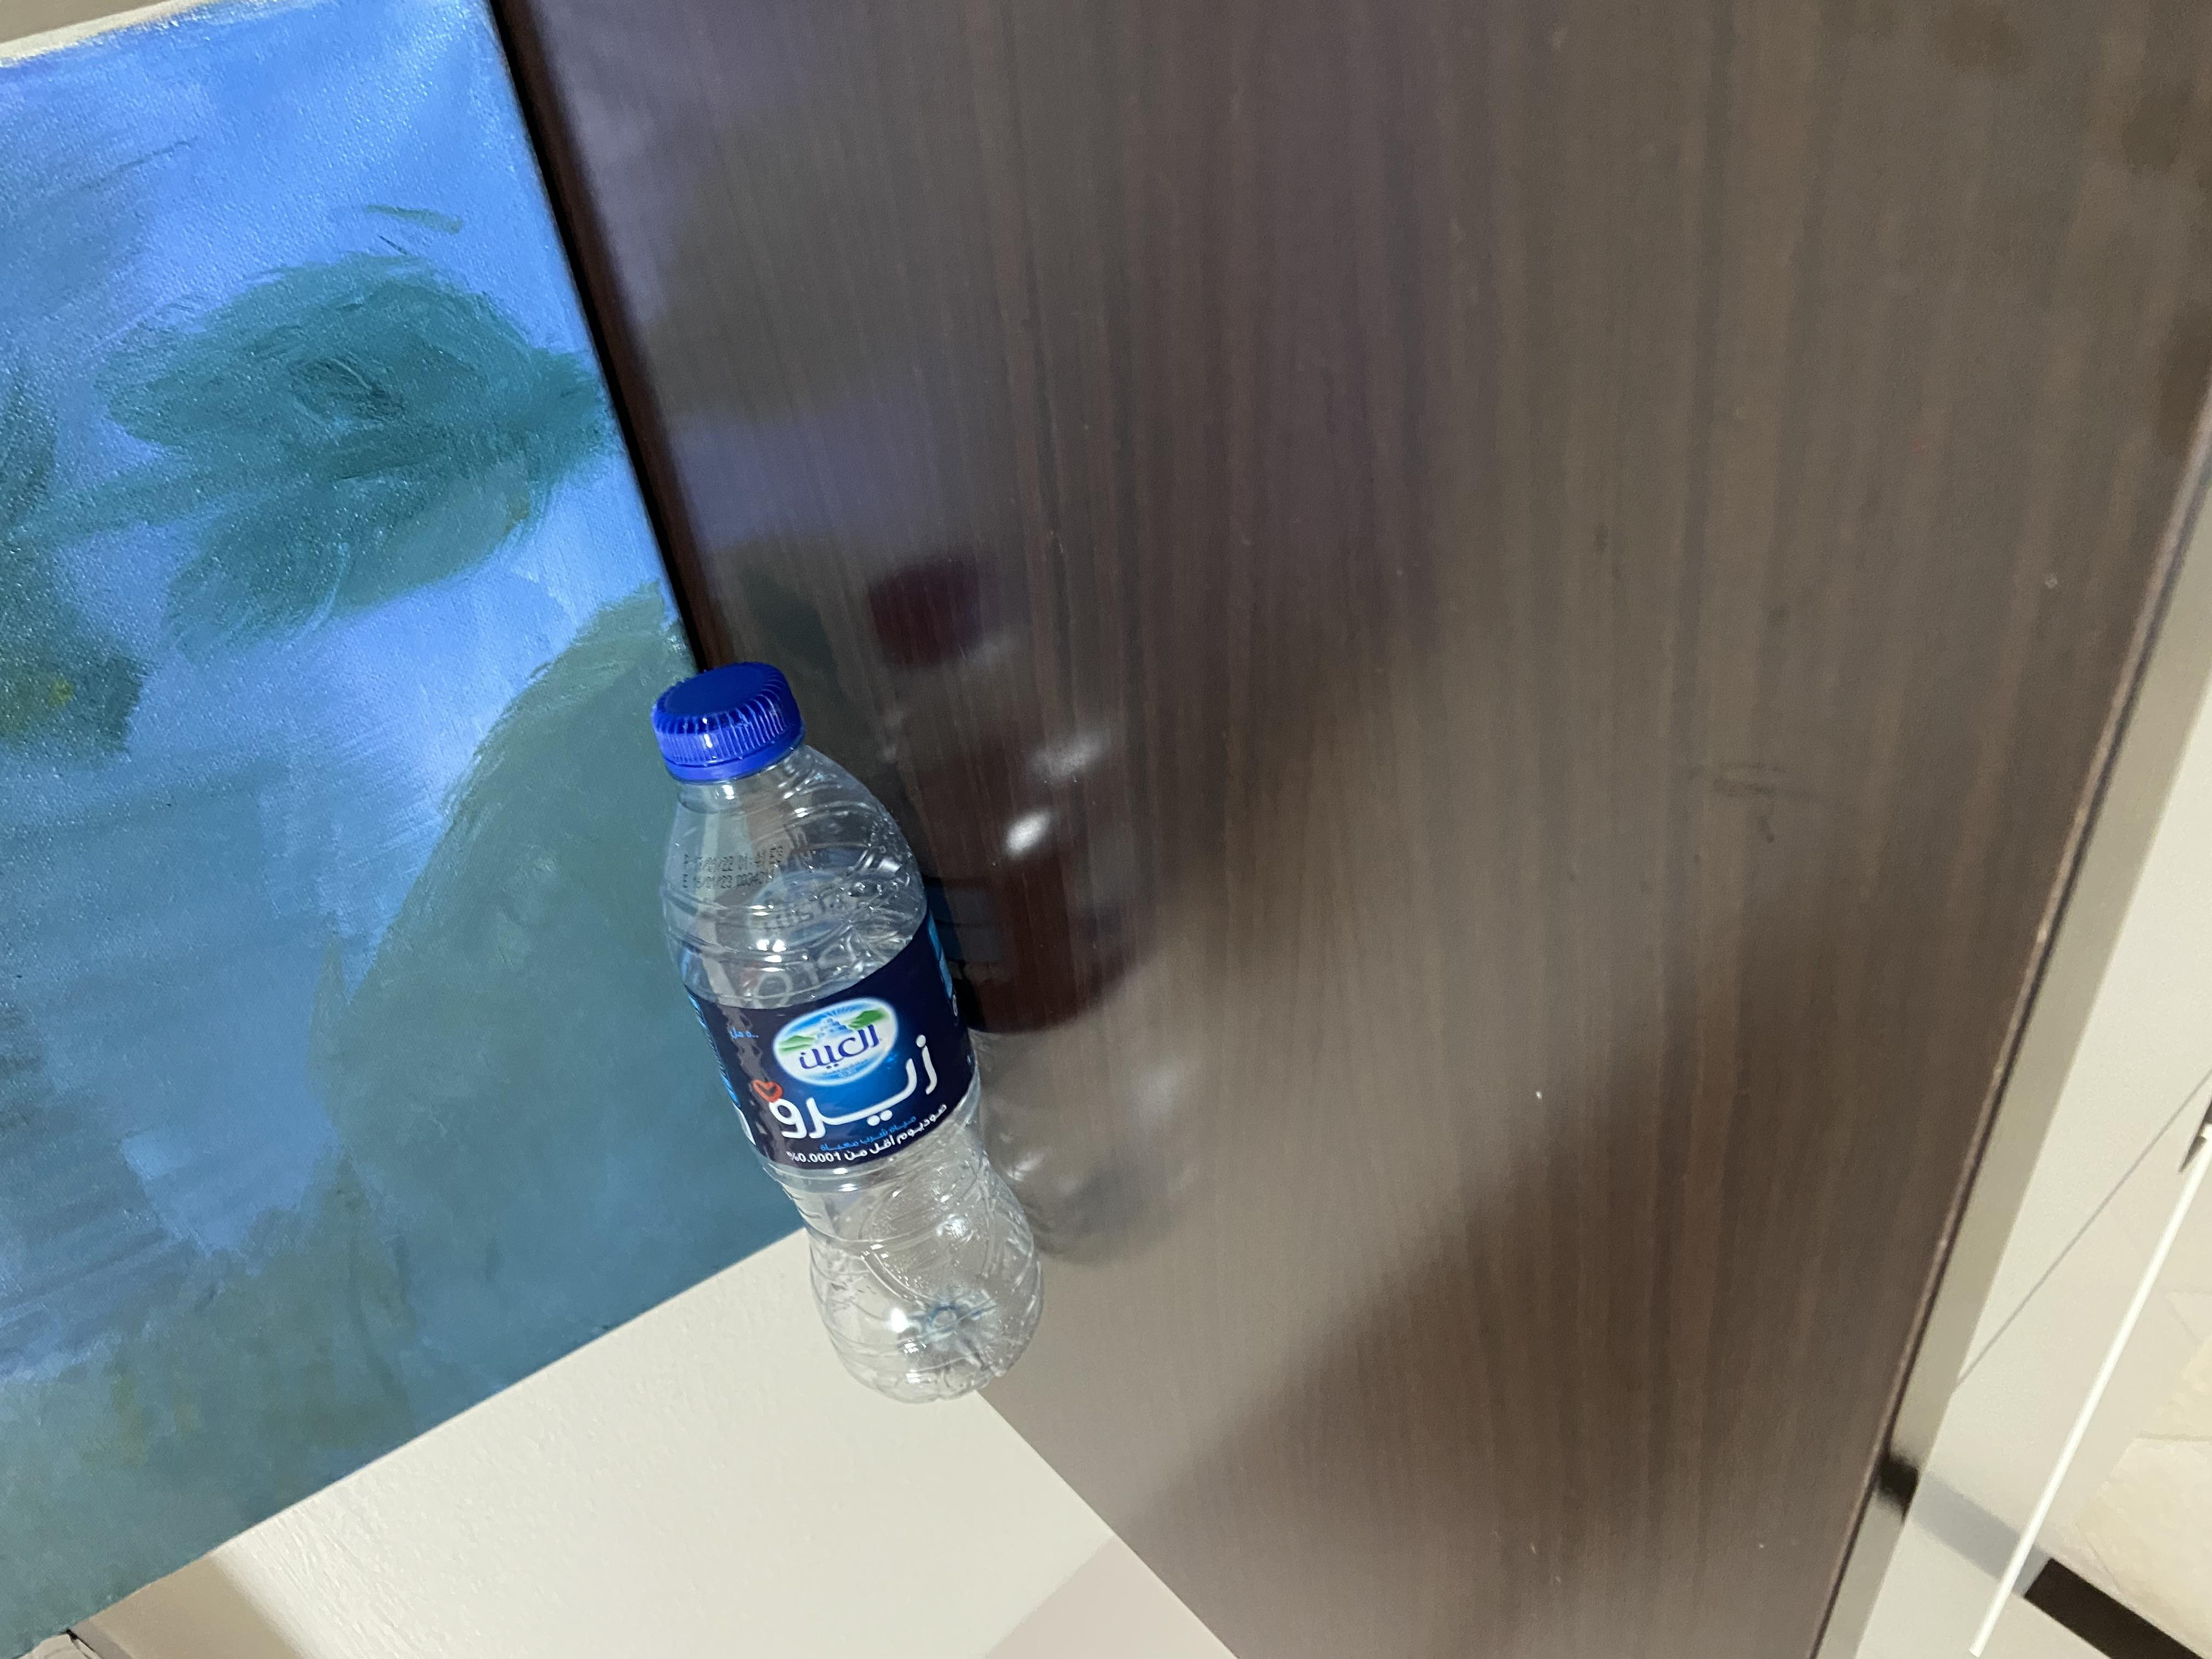bottle: (266, 453, 1334, 849)
